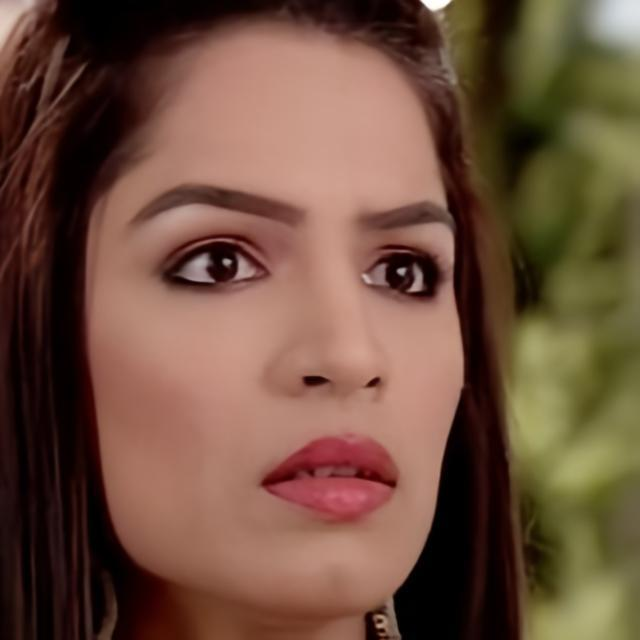disgust: (85, 18, 468, 616)
